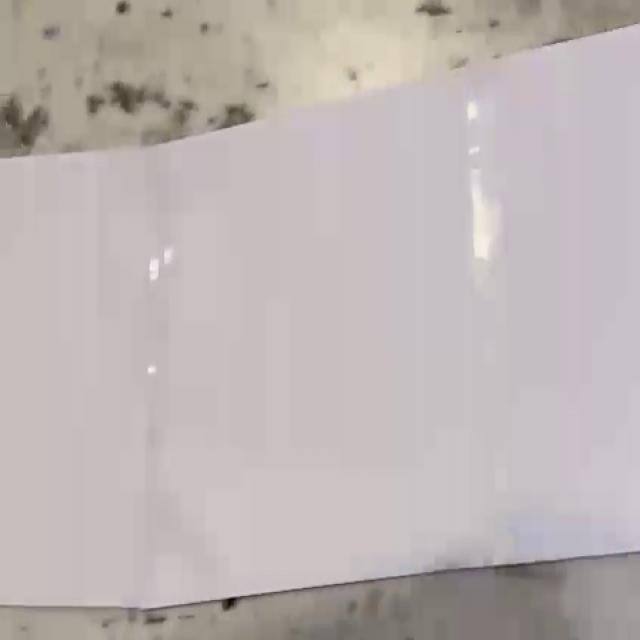road: (0, 24, 640, 609)
